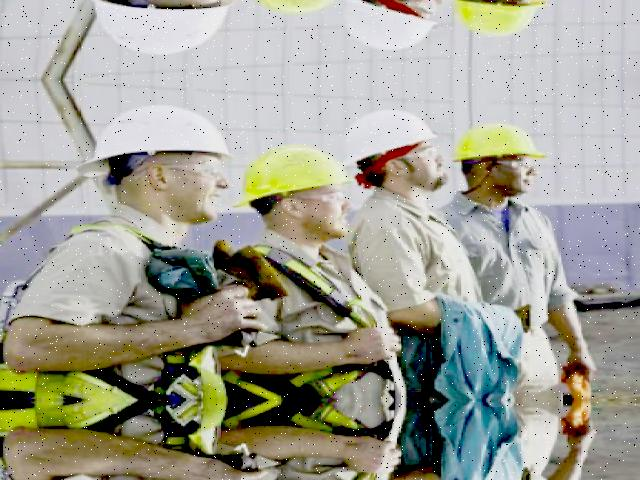Helmet: (69, 100, 236, 189), (221, 139, 351, 212), (337, 103, 442, 169), (443, 115, 552, 174)
